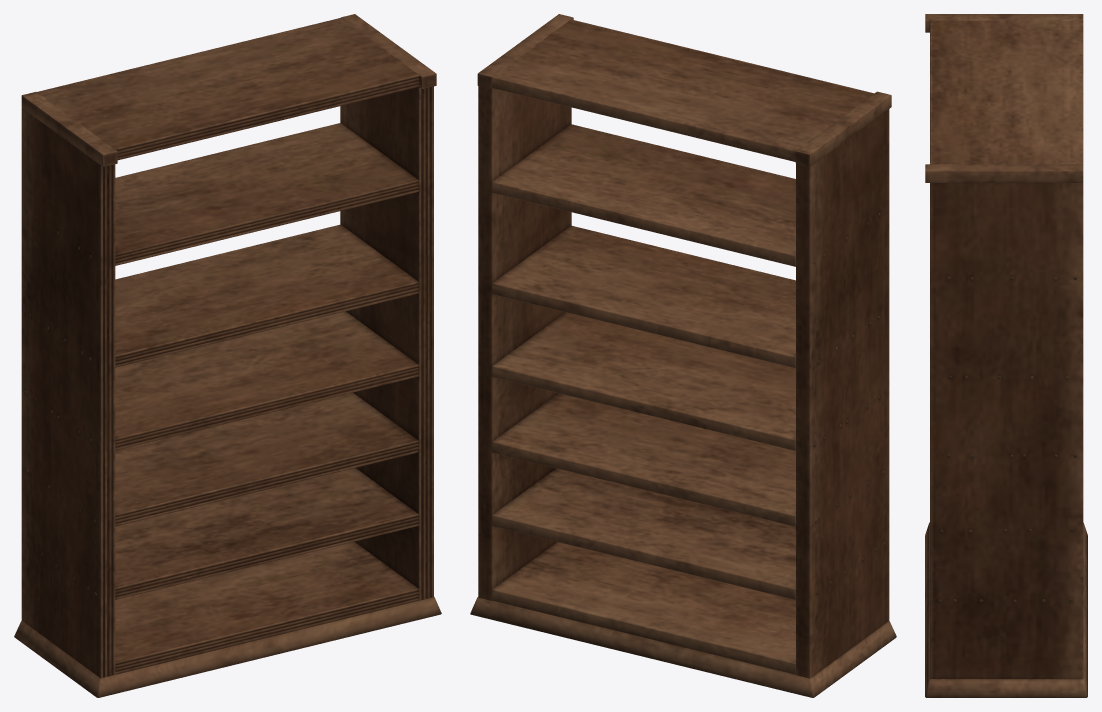
The picture shows the model from 3 angles, left to right: view 1: azimuth 30°, elevation 25°; view 2: azimuth 150°, elevation 25°; view 3: azimuth 270°, elevation 25°; orthographic projection. The views are drawn at different scales.
Parts seen in each view (by area): view 1: wooden_bookshelf_worn; view 2: wooden_bookshelf_worn; view 3: wooden_bookshelf_worn.
Boxes of the visible parts, bbox=[...] form: wooden_bookshelf_worn: bbox=[14, 14, 441, 697]; wooden_bookshelf_worn: bbox=[470, 14, 896, 697]; wooden_bookshelf_worn: bbox=[925, 14, 1087, 697].
Bounding box in the file's own units: 1.37 × 2.06 × 0.5814.
Materials: 1 (1 with a texture image).
